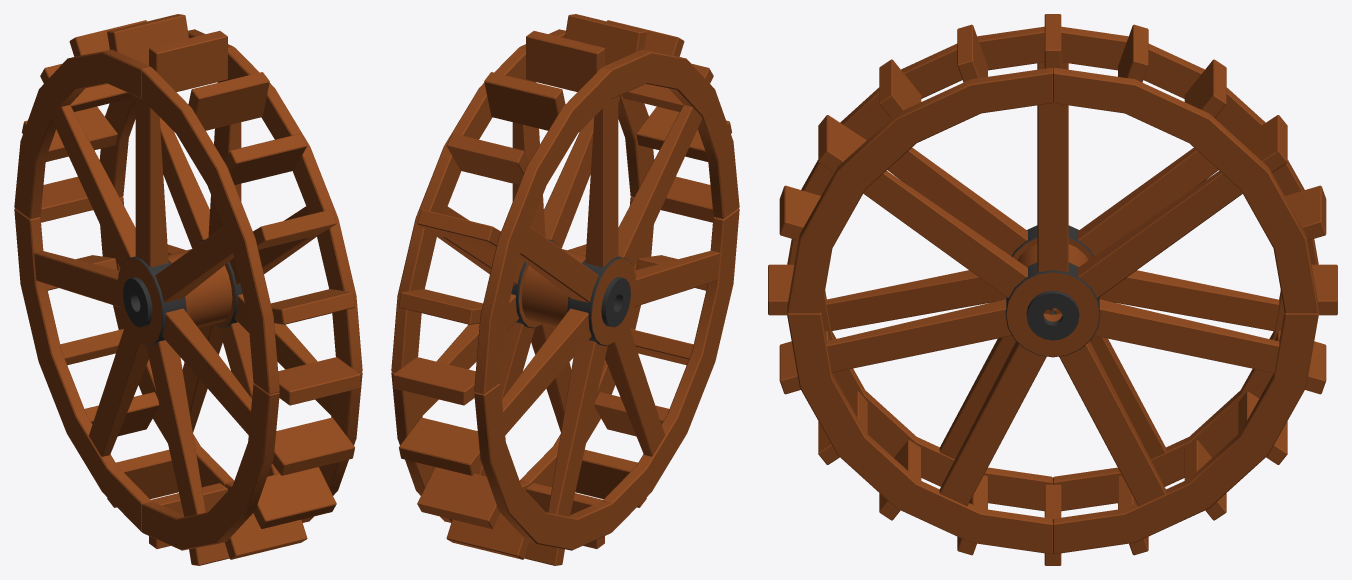
File: wheel.glb
3 renders of one model, left to right at view 1: azimuth 30°, elevation 25°; view 2: azimuth 150°, elevation 25°; view 3: azimuth 270°, elevation 25°, orthographic. The views are drawn at different scales.
Parts seen in each view (by area): view 1: wheel_paddle; view 2: wheel_paddle; view 3: wheel_paddle.
Part boxes in pixels (x1=…): wheel_paddle: x1=14, y1=14, x2=362, y2=565; wheel_paddle: x1=391, y1=14, x2=739, y2=565; wheel_paddle: x1=768, y1=14, x2=1337, y2=565.
Bounding box in the file's own units: 0.892 × 4 × 4.
